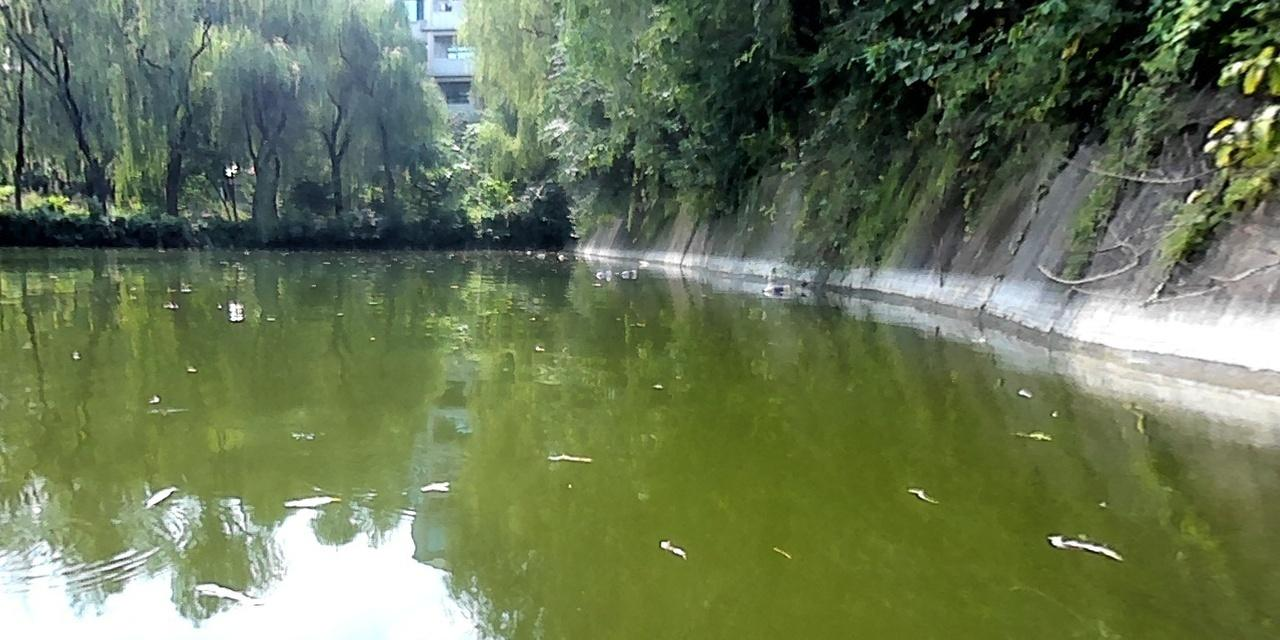bottle: (758, 281, 790, 296), (614, 267, 639, 277), (588, 268, 611, 278)
